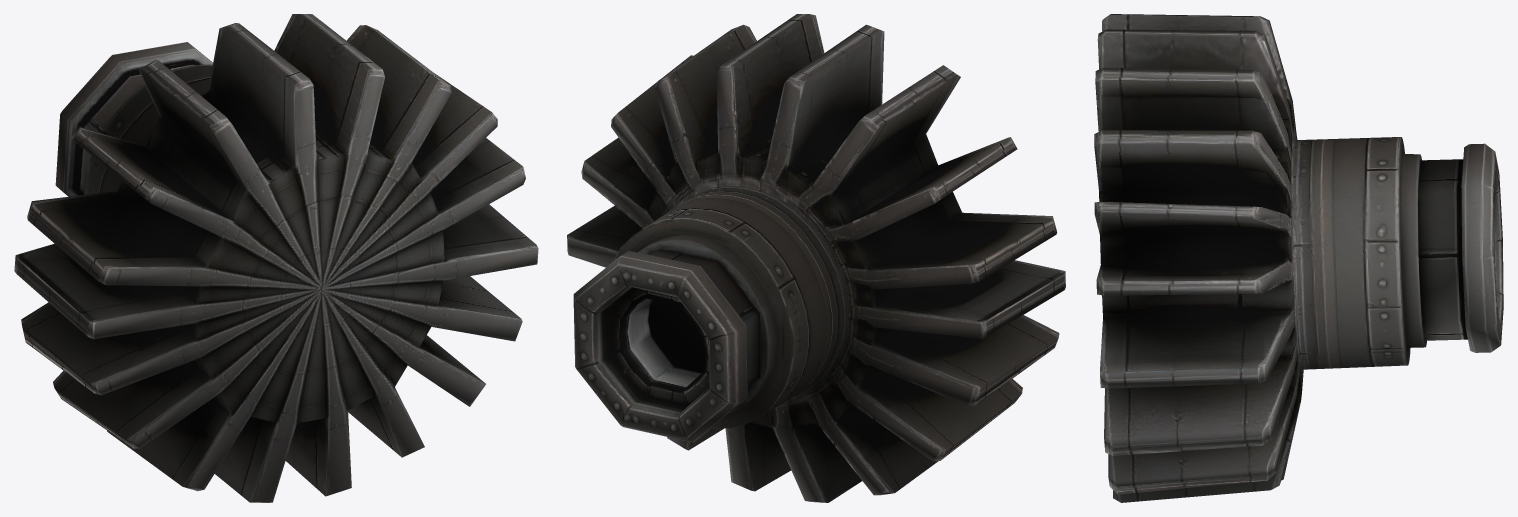
Rendered from cold-iron-v2-heatsink-b-radial.glb.
3 renders of one model, left to right at view 1: azimuth 30°, elevation 25°; view 2: azimuth 150°, elevation 25°; view 3: azimuth 270°, elevation 25°, orthographic. The views are drawn at different scales.
Visible parts, largest first — view 1: tripo_node_a9119552-0c2f-431b-9512-ca4f3252cd5f; view 2: tripo_node_a9119552-0c2f-431b-9512-ca4f3252cd5f; view 3: tripo_node_a9119552-0c2f-431b-9512-ca4f3252cd5f.
Boxes of the visible parts, x1,y1,x2,y2 form: tripo_node_a9119552-0c2f-431b-9512-ca4f3252cd5f: [14, 14, 538, 502]; tripo_node_a9119552-0c2f-431b-9512-ca4f3252cd5f: [567, 14, 1065, 502]; tripo_node_a9119552-0c2f-431b-9512-ca4f3252cd5f: [1094, 14, 1503, 502].
Bounding box in the file's own units: 1 × 0.935 × 0.7953.
Materials: 1 (1 with a texture image).
